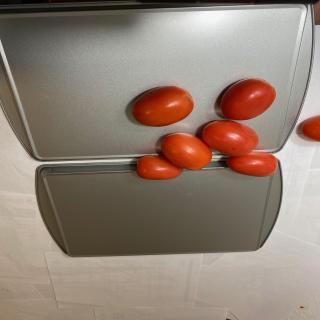Tomato: (131, 85, 194, 127), (220, 78, 276, 120), (202, 120, 259, 156), (161, 132, 212, 170), (226, 151, 278, 177), (136, 155, 183, 180), (300, 115, 320, 142)
